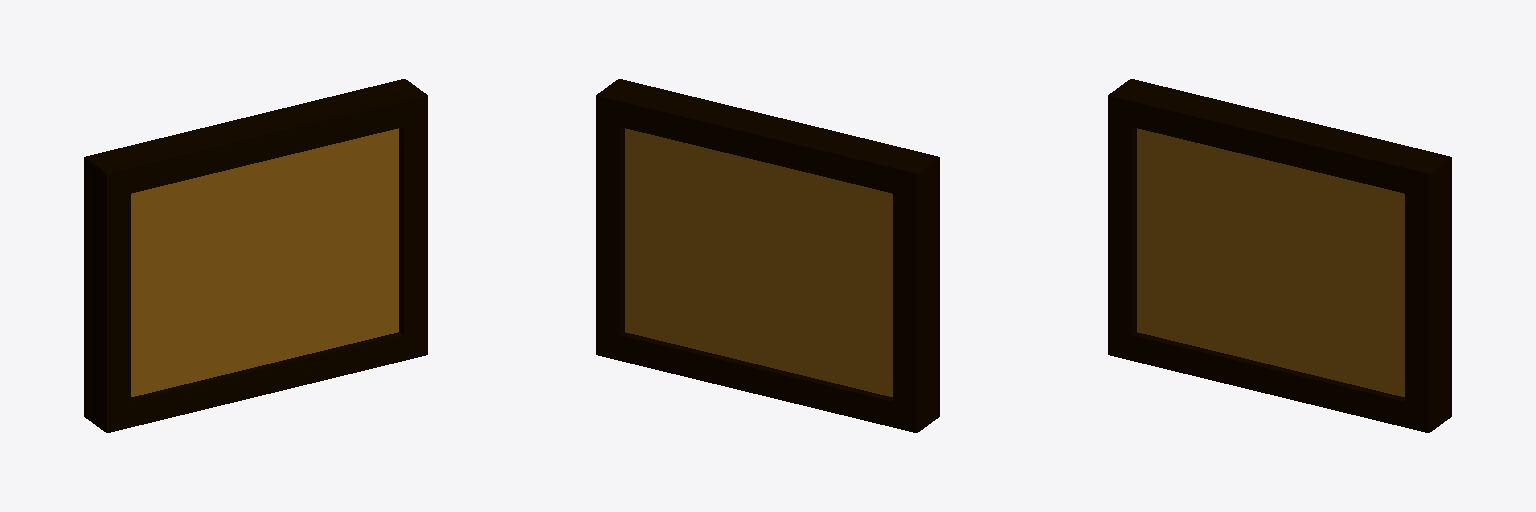
Rendered from Wall_topSmall.obj.
The picture shows the model from 3 angles: view 1: azimuth 30°, elevation 25°; view 2: azimuth 150°, elevation 25°; view 3: azimuth 330°, elevation 25°; orthographic projection.
Parts seen in each view (by area): view 1: SmallWall_01_Cube.013; view 2: SmallWall_01_Cube.013; view 3: SmallWall_01_Cube.013.
Boxes of the visible parts, box(x1,y1,x2,y2) form: SmallWall_01_Cube.013: box(84, 79, 427, 432); SmallWall_01_Cube.013: box(596, 79, 939, 432); SmallWall_01_Cube.013: box(1108, 79, 1451, 432).
Size of the model in its own units: 2.61 by 2.01 by 0.324.